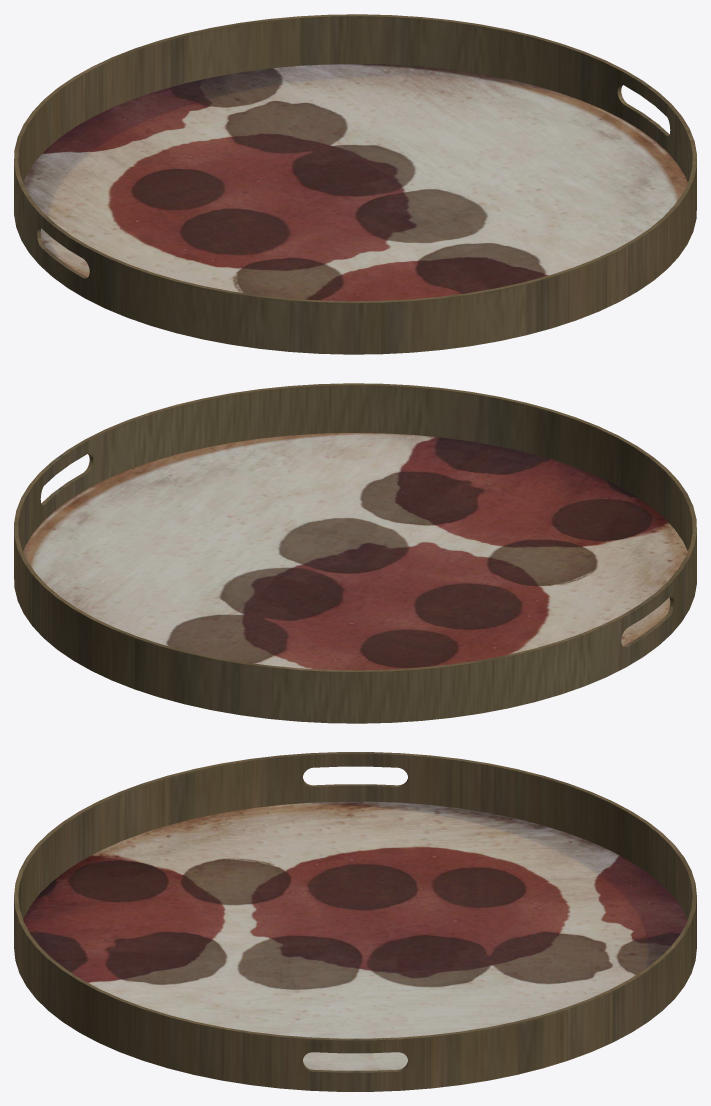
File: Pinot-Layered-Tray-Round-S.glb
The picture shows the model from 3 angles, top to bottom: view 1: azimuth 30°, elevation 25°; view 2: azimuth 150°, elevation 25°; view 3: azimuth 270°, elevation 25°; orthographic projection.
Visible parts, largest first — view 1: Difference 12; view 2: Difference 12; view 3: Difference 12.
Part boxes in pixels (box(x1,y1,x2,y2)): Difference 12: box(14, 14, 696, 354); Difference 12: box(14, 383, 696, 723); Difference 12: box(14, 752, 696, 1091).
Size of the model in its own units: 0.5016 by 0.0418 by 0.5021.
2 materials, 2 textured.
